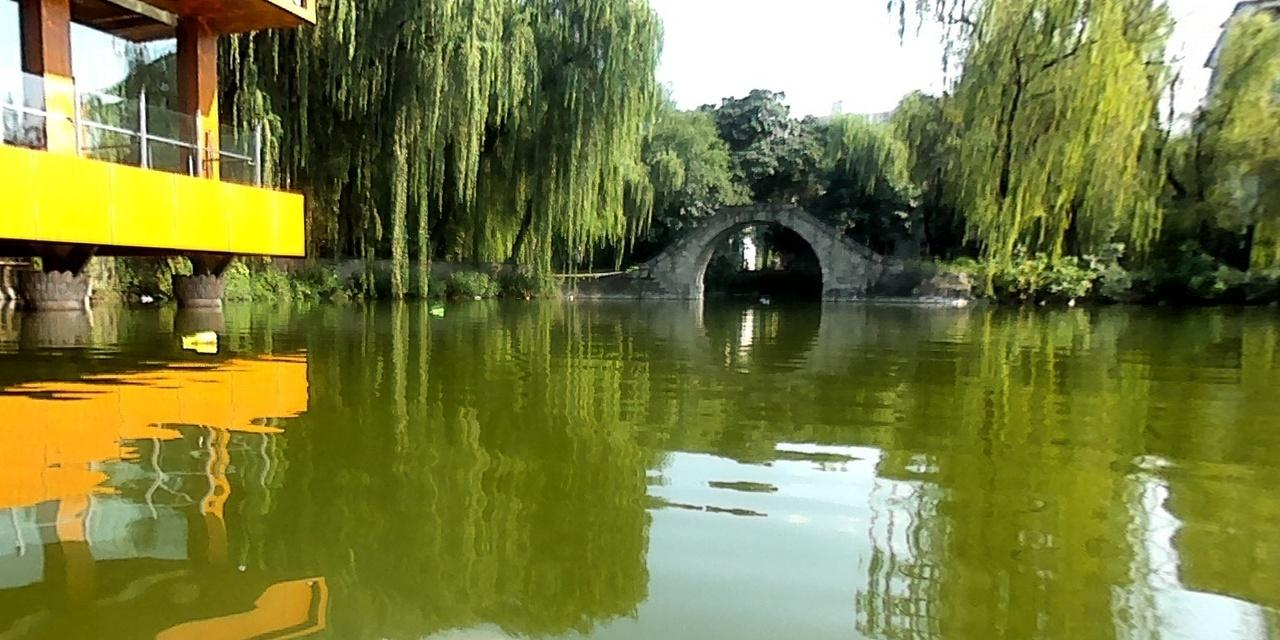bottle: (180, 327, 216, 344), (430, 306, 444, 315)
